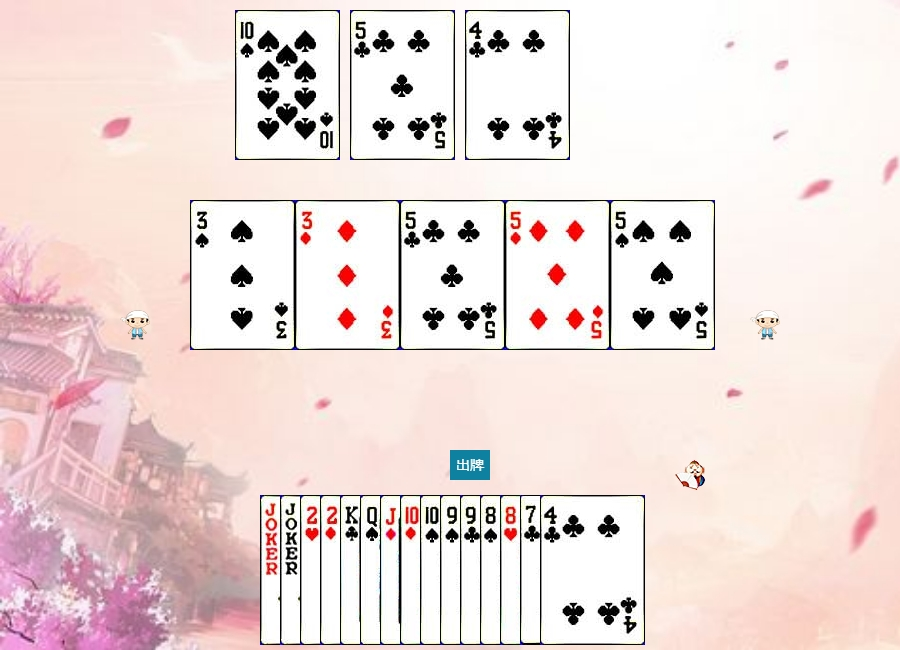10~1: (400, 495, 505, 645)
10~4: (235, 10, 340, 160), (420, 495, 525, 645)
11~1: (380, 495, 485, 645)
12~4: (360, 495, 465, 645)
13~2: (340, 495, 445, 645)
15~1: (320, 495, 425, 645)
15~3: (300, 495, 405, 645)
17~3: (280, 495, 385, 645)
18~4: (260, 495, 365, 645)
3~1: (295, 200, 400, 350)
3~4: (190, 200, 295, 350)
4~2: (465, 10, 570, 160), (540, 495, 645, 645)
5~1: (505, 200, 610, 350)
5~2: (350, 10, 455, 160), (400, 200, 505, 350)
5~4: (610, 200, 715, 350)
7~2: (520, 495, 625, 645)
8~3: (500, 495, 605, 645)
8~4: (480, 495, 585, 645)
9~2: (460, 495, 565, 645)
9~4: (440, 495, 545, 645)
